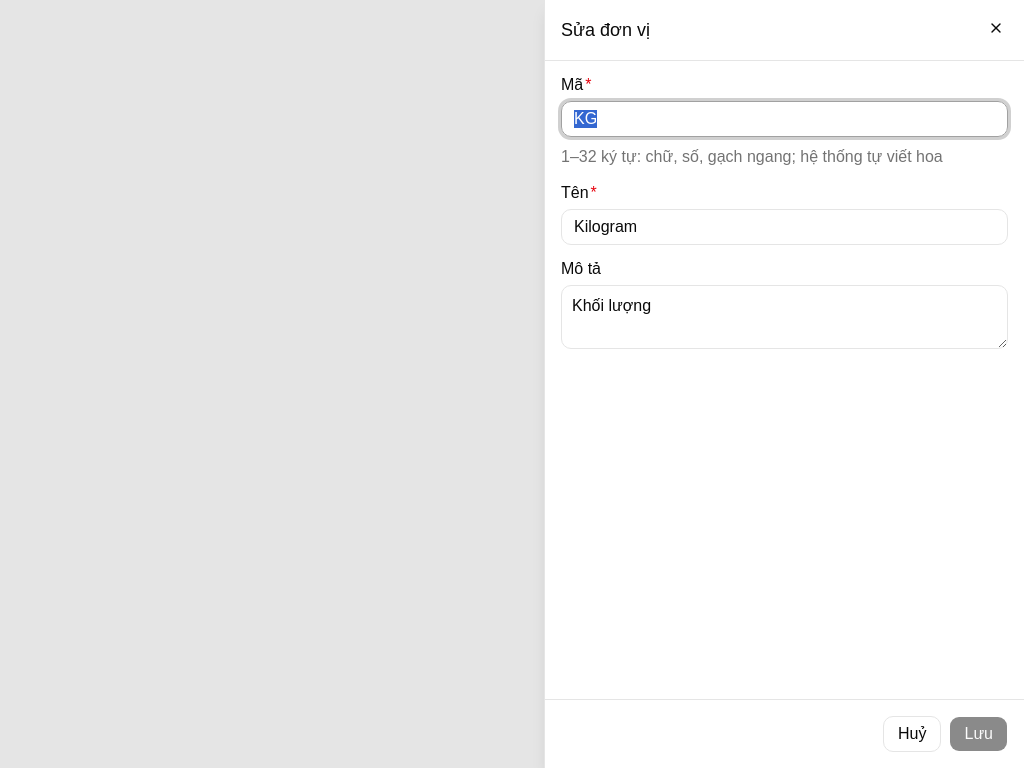
Test: UnitFormSheet › sửa: bấm Lưu → hỏi "Lưu thay đổi đơn vị KG?" kèm "Đã sửa: Tên", chưa PATCH; Quay lại → không PATCH, sheet còn mở
Type " 2" into the field labelled "Tên *" at (784, 227), box [561,209,1008,245]
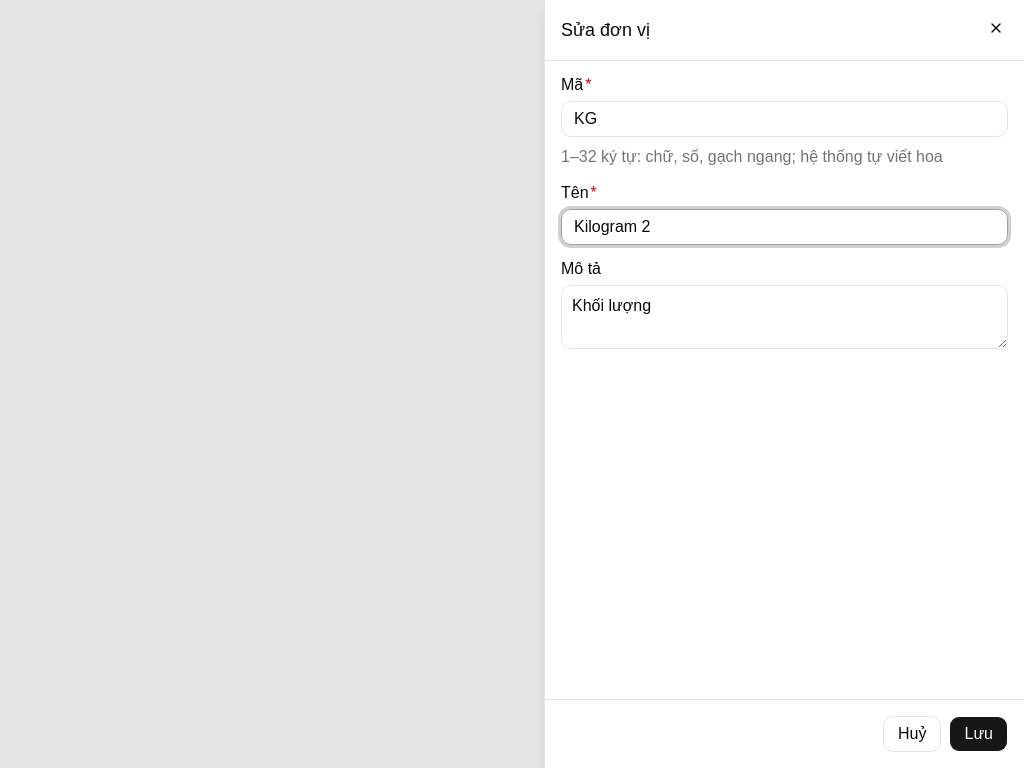
Click the button "Lưu" at (979, 734), box [950,716,1008,752]
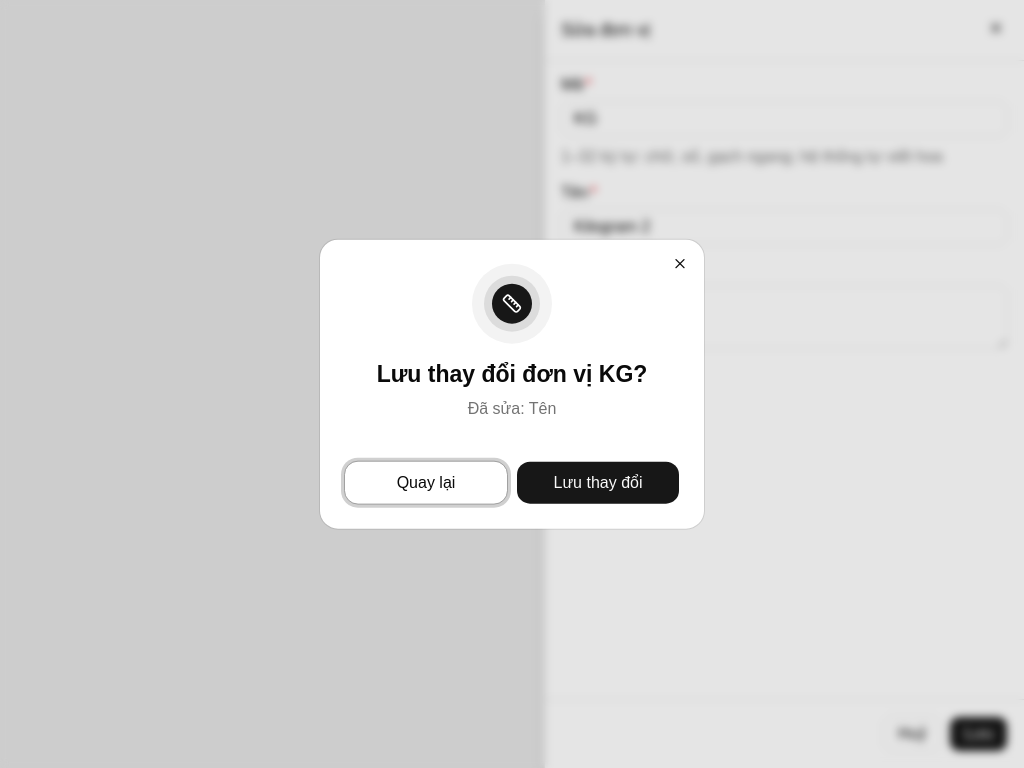
Check: the heading reads "Lưu thay đổi đơn vị KG?", box [377,361,647,387]
Check: the text "Đã sửa: Tên" is shown, box [468,396,556,420]
Click the button "Quay lại" at (426, 482), box [344,460,508,504]
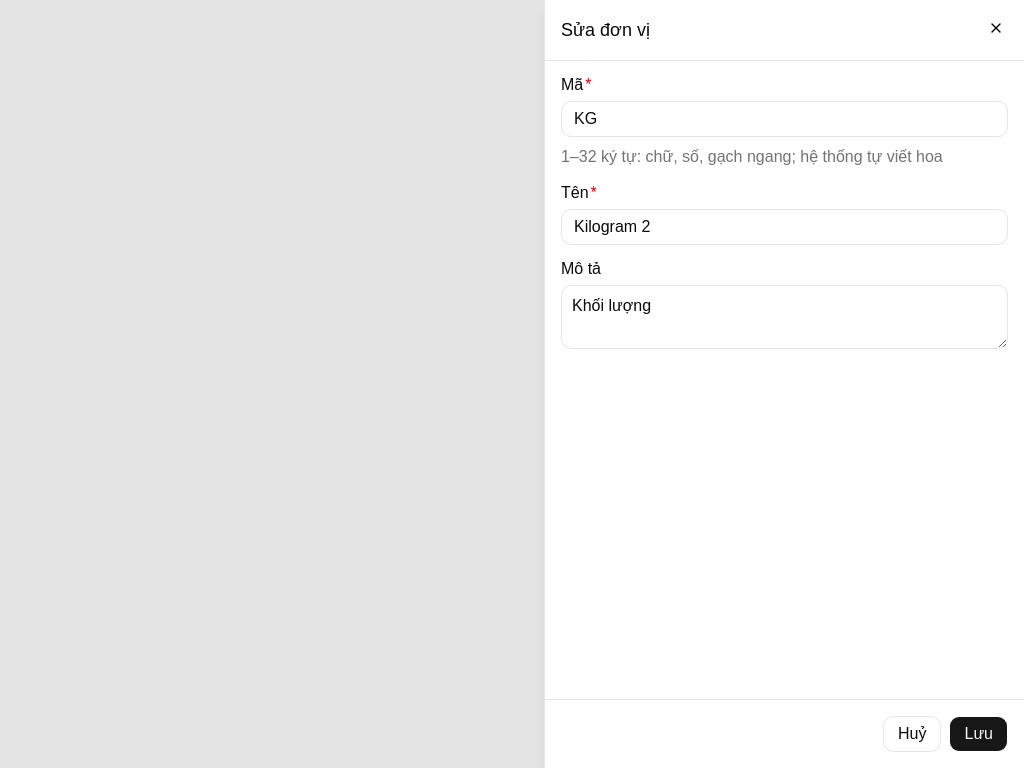
Check: the field labelled "Tên *" holds "Kilogram 2", box [561,209,1008,245]
Check: the dialog "Lưu thay đổi đơn vị KG? Đã sửa: Tên Quay lại Lưu thay đổi" is gone
